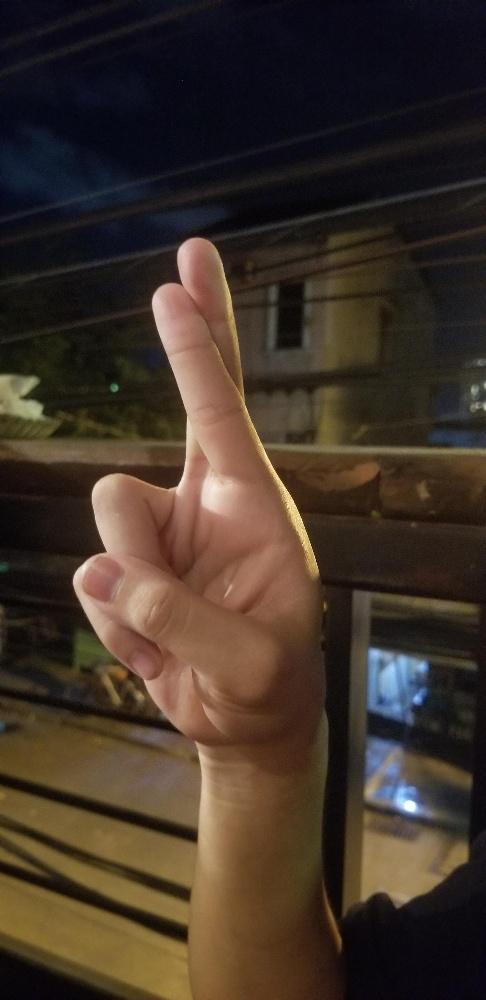r: (67, 234, 332, 755)
